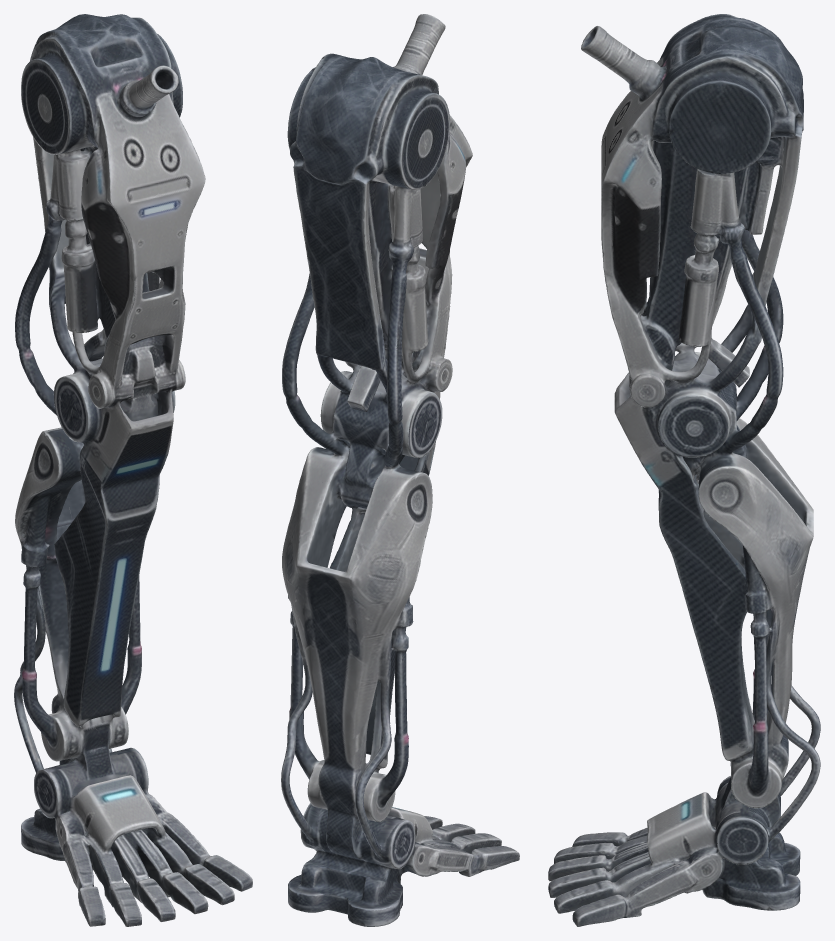
The model's file is leg.glb.
The picture shows the model from 3 angles, left to right: view 1: azimuth 30°, elevation 25°; view 2: azimuth 150°, elevation 25°; view 3: azimuth 270°, elevation 25°; orthographic projection. The views are drawn at different scales.
Size of the model in its own units: 0.3898 by 1.9 by 0.5449.
Materials: 1 (1 with a texture image).
